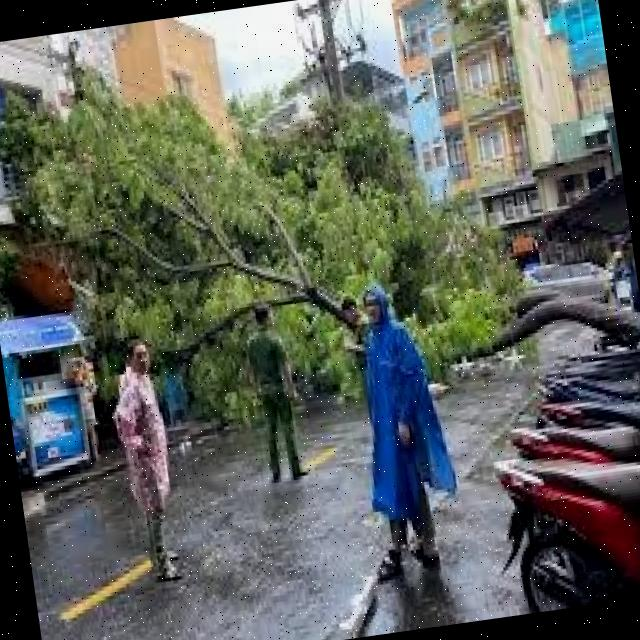fallen_object: (96, 135, 640, 421)
